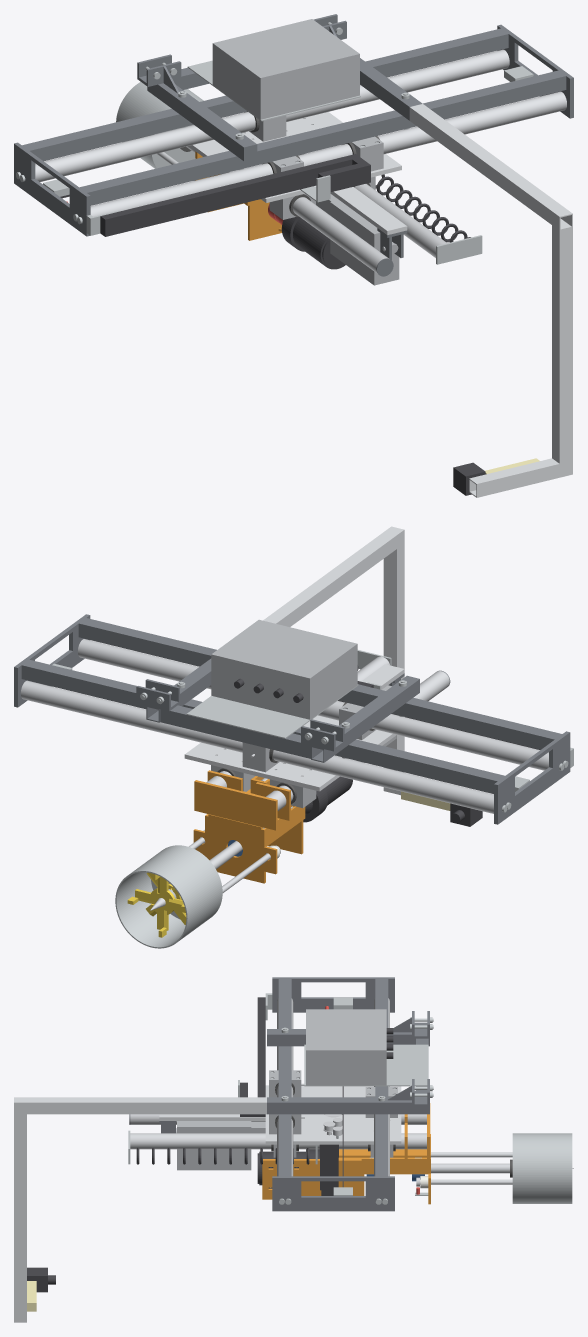
The model's file is raised.glb.
The picture shows the model from 3 angles, top to bottom: view 1: azimuth 30°, elevation 25°; view 2: azimuth 150°, elevation 25°; view 3: azimuth 270°, elevation 25°; orthographic projection. The views are drawn at different scales.
Visible parts, largest first — view 1: frame, carriage; view 2: frame, carriage; view 3: frame, carriage.
Boxes of the visible parts, x1,y1,x2,y2 form: frame: (14,14,573,497); carriage: (116,82,482,285); frame: (14,526,573,826); carriage: (115,650,450,948); frame: (14,977,433,1322); carriage: (128,1070,573,1204).
Bounding box in the file's own units: 1.48 × 0.883 × 1.73.
